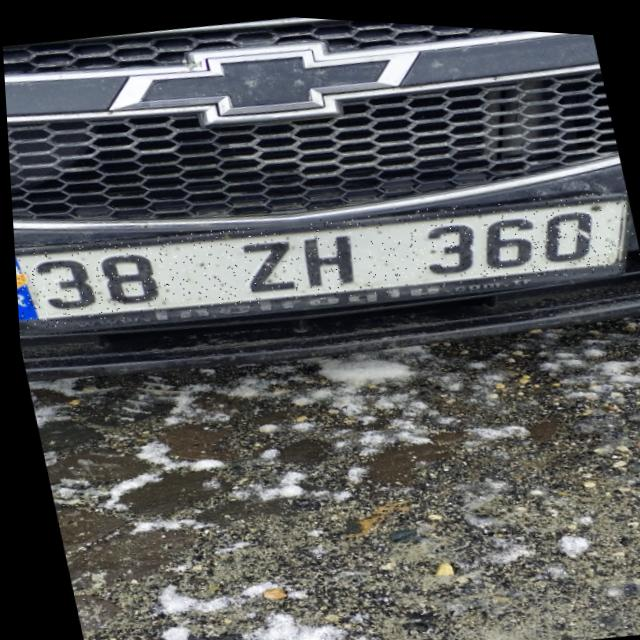license_plate: (7, 152, 640, 359)
